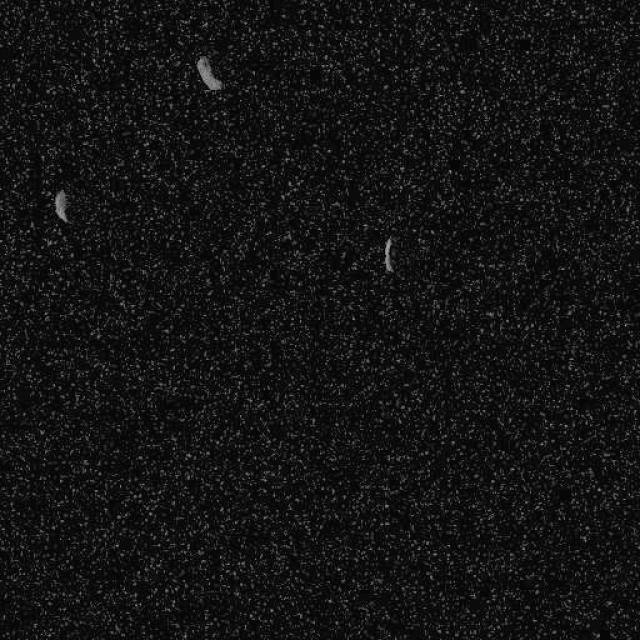D2: (195, 54, 224, 92), (52, 188, 70, 222), (381, 235, 395, 273)
